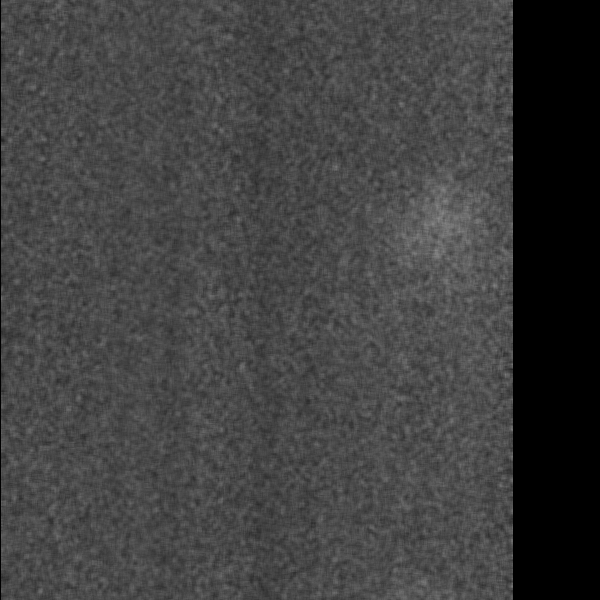spark: (392, 162, 468, 322)
